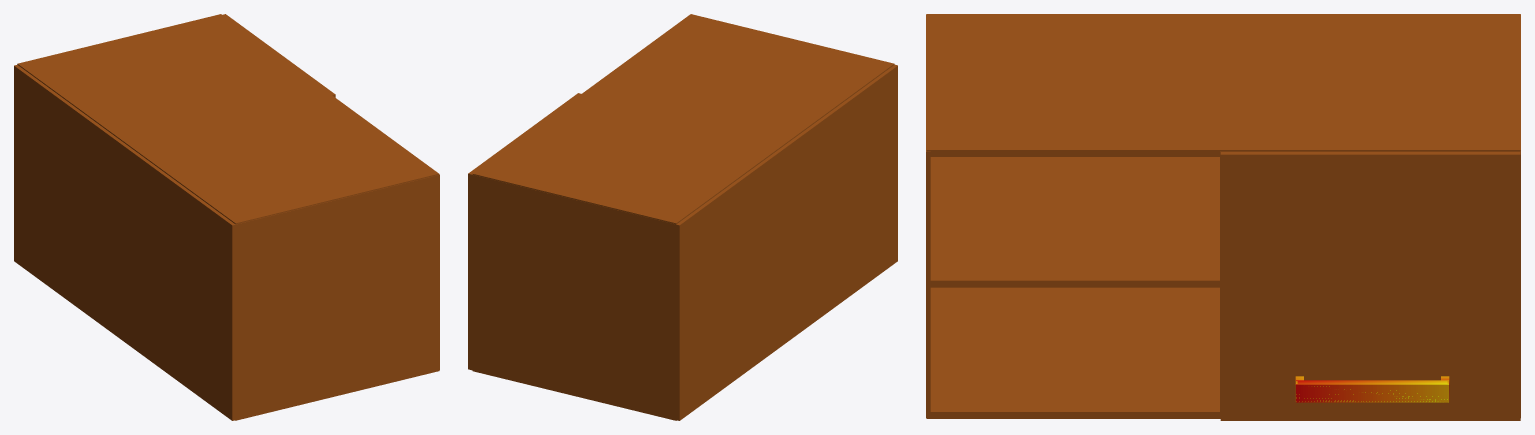
File: Mueble.obj
3 views of the same model, side by side, from view 1: azimuth 30°, elevation 25°; view 2: azimuth 150°, elevation 25°; view 3: azimuth 270°, elevation 25° (orthographic). The views are drawn at different scales.
Visible parts, largest first — view 1: Mueble:pCube30; view 2: Mueble:pCube30; view 3: Mueble:pCube30.
Part boxes in pixels (x1,y1,x2,y2): Mueble:pCube30: [14, 14, 439, 420]; Mueble:pCube30: [468, 14, 897, 420]; Mueble:pCube30: [926, 14, 1520, 420].
Size of the model in its own units: 0.6198 by 0.5207 by 1.04.
Materials: 2 (2 with a texture image).
